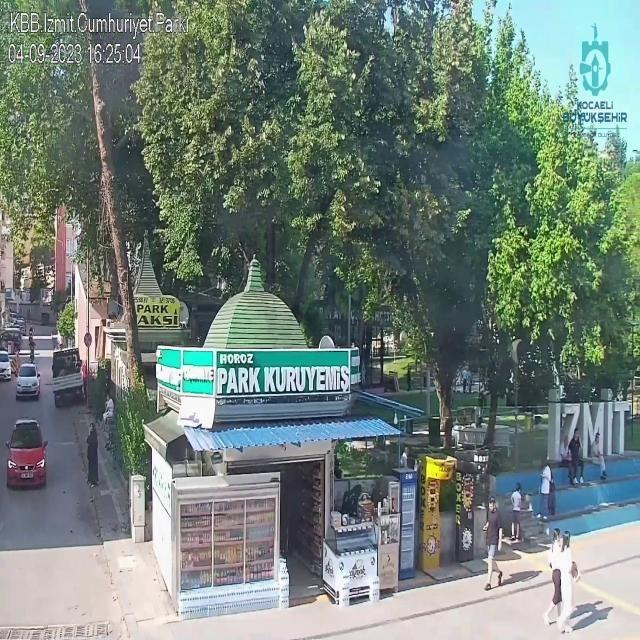Car: (4, 418, 48, 490), (13, 362, 41, 402), (0, 349, 14, 380)
Truck: (50, 348, 86, 407)
